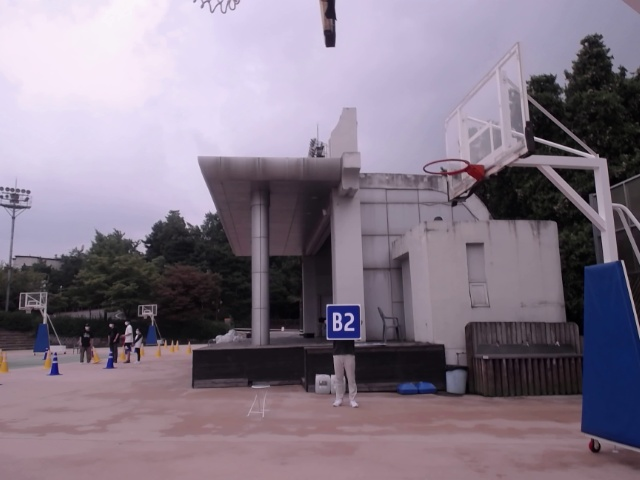delivery_b2: (327, 304, 362, 338)
